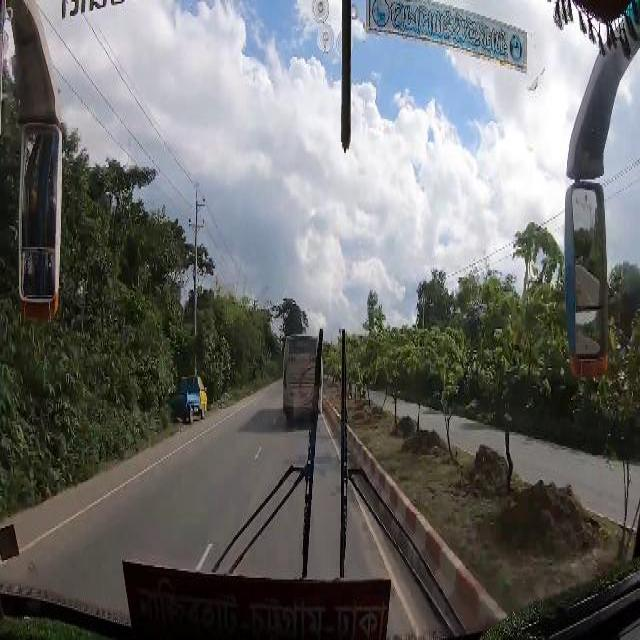11: (170, 372, 206, 420)
Truck: (282, 331, 322, 423)
